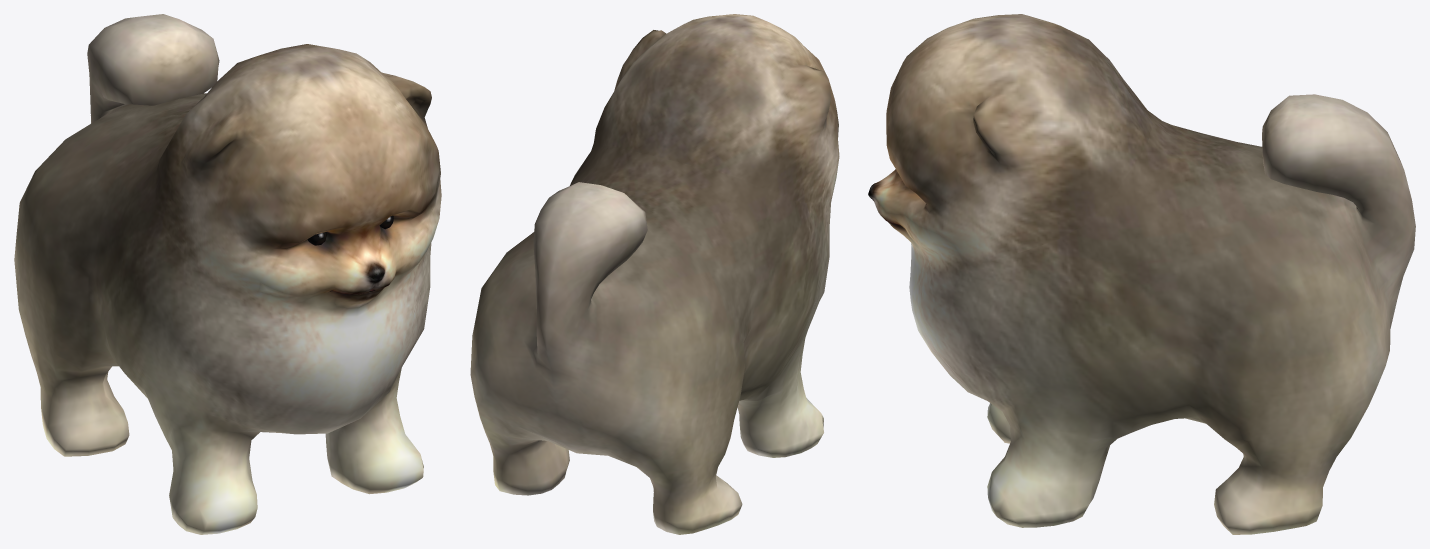
Rendered from Dog3_sample.fbx.
The picture shows the model from 3 angles, left to right: view 1: azimuth 30°, elevation 25°; view 2: azimuth 150°, elevation 25°; view 3: azimuth 270°, elevation 25°; orthographic projection. The views are drawn at different scales.
Parts seen in each view (by area): view 1: Final_furFull_Dog3; view 2: Final_furFull_Dog3; view 3: Final_furFull_Dog3.
Part boxes in pixels (x1,y1,x2,y2): Final_furFull_Dog3: (14,14,441,534); Final_furFull_Dog3: (470,14,839,534); Final_furFull_Dog3: (868,14,1415,534).
Size of the model in its own units: 27.18 by 41.77 by 46.47.
1 material, 1 textured.
